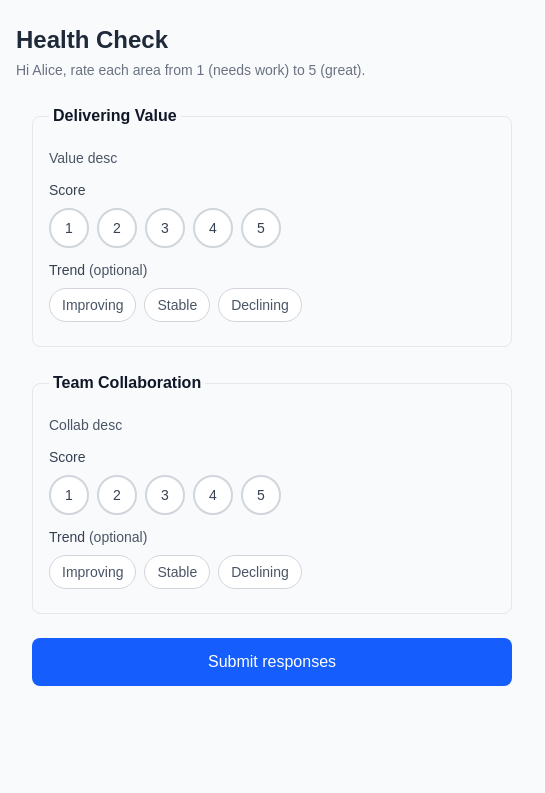
it: Session Link Page — Response Submission › submission flow (Req 4.6) › displays rolling averages per question after successful submission (Req 16.1)
Expected: the text "Delivering Value" is shown, [49,104,181,128]
# Fill and submit
Step 1. Click the radio button labelled "4" below "Value desc" → (213,228), box [193,208,233,248]
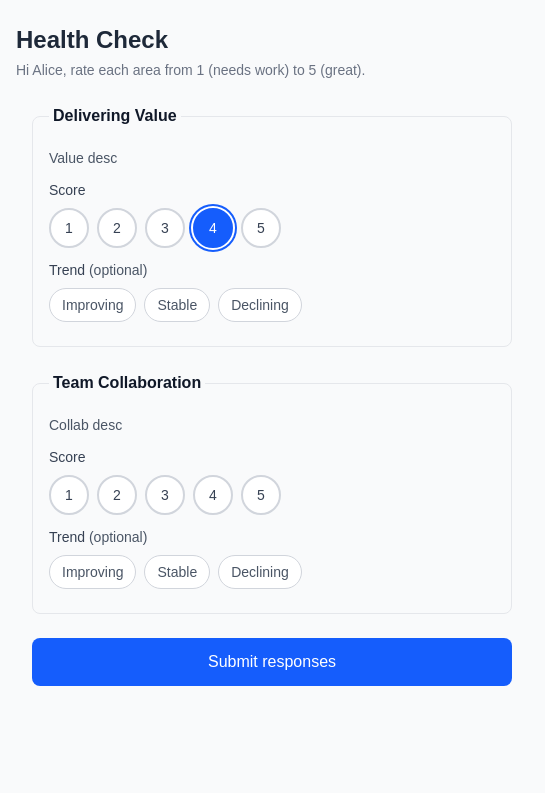
Step 2. Click the radio button labelled "5" below "Collab desc" → (261,495), box [241,475,281,515]
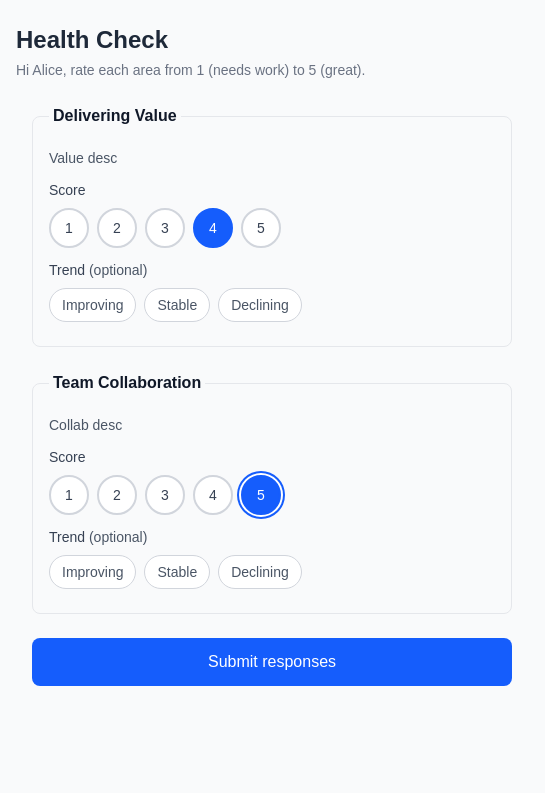
Step 3. Click the button "Submit responses" → (272,662), box [32,638,512,686]
(page scrolled)
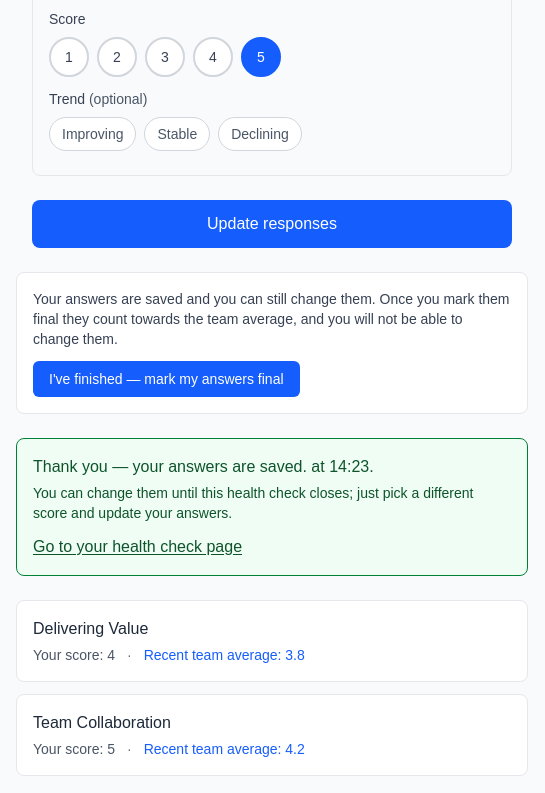
Expected: the text "Recent team average: 3.8" is shown, [144,645,305,665]
Expected: the text "Recent team average: 4.2" is shown, [144,739,305,759]
